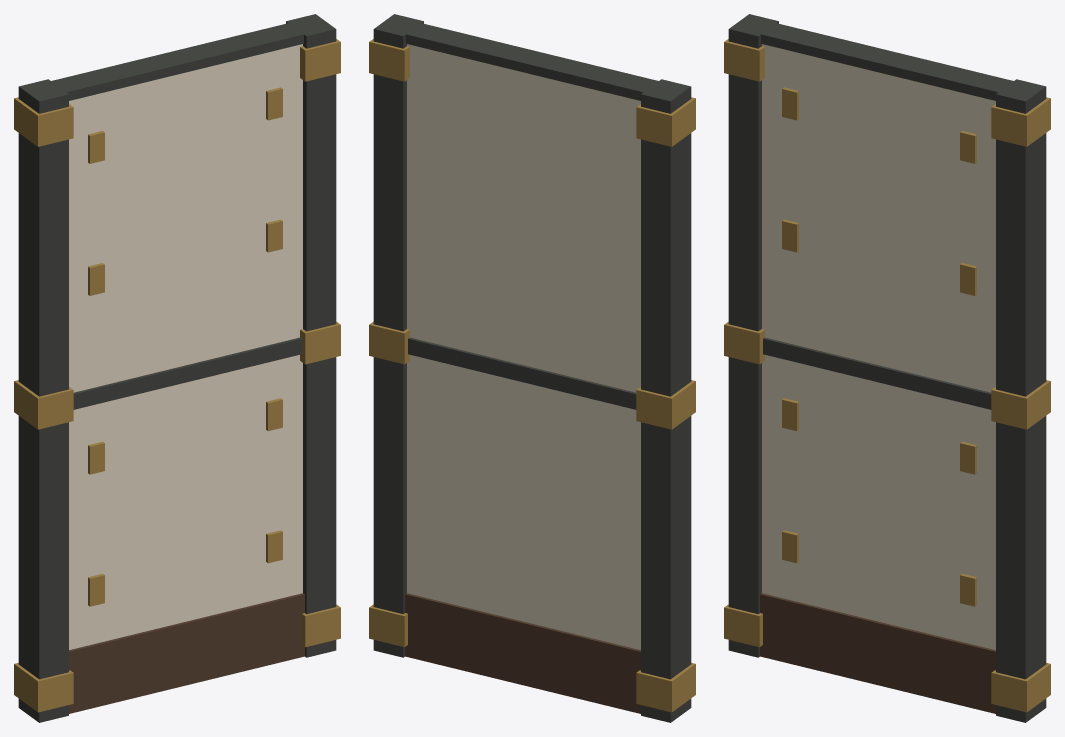
File: wall_4.glb
3 renders of one model, left to right at view 1: azimuth 30°, elevation 25°; view 2: azimuth 150°, elevation 25°; view 3: azimuth 330°, elevation 25°, orthographic.
Parts seen in each view (by area): view 1: wall_4; view 2: wall_4; view 3: wall_4.
Boxes of the visible parts, bbox=[...] form: wall_4: bbox=[14, 14, 340, 722]; wall_4: bbox=[369, 14, 695, 722]; wall_4: bbox=[724, 14, 1050, 722].
Size of the model in its own units: 2.04 by 4 by 0.28.
